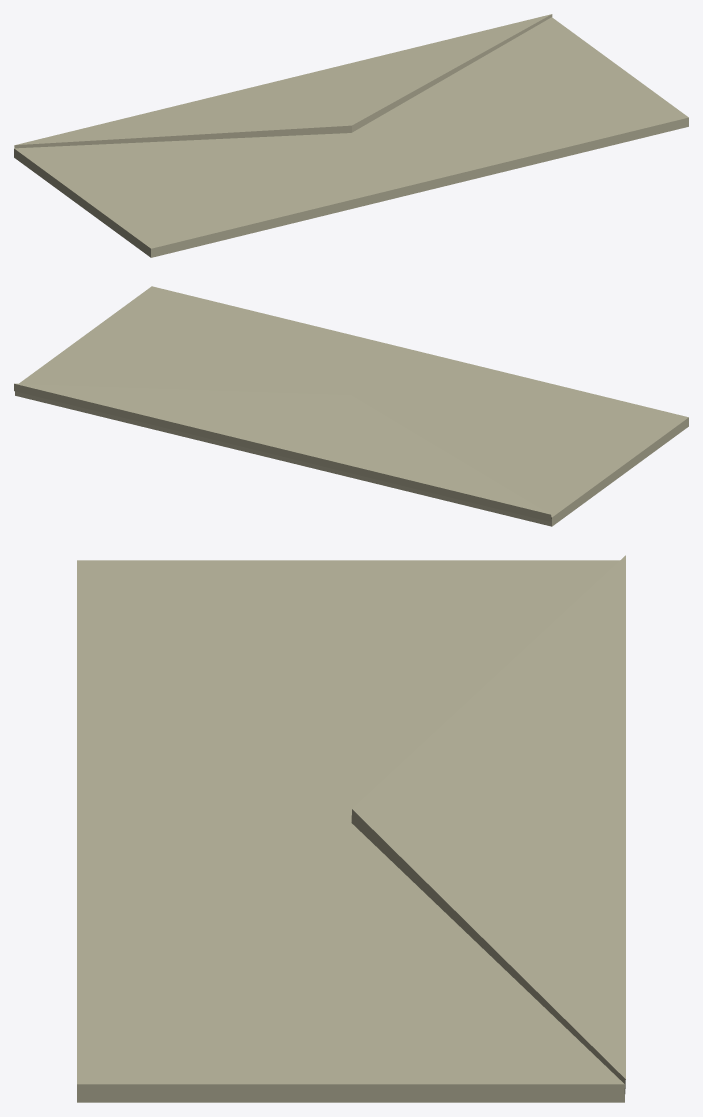
The model's file is Envelope.fbx.
3 renders of one model, top to bottom at view 1: azimuth 30°, elevation 25°; view 2: azimuth 150°, elevation 25°; view 3: azimuth 270°, elevation 25°, orthographic. The views are drawn at different scales.
Parts seen in each view (by area): view 1: Cube, Cube.001; view 2: Cube, Cube.001; view 3: Cube, Cube.001.
Part boxes in pixels (x1,y1,x2,y2): Cube: (14,17,688,257); Cube.001: (14,14,552,148); Cube: (15,286,688,526); Cube.001: (14,383,551,521); Cube: (77,560,624,1102); Cube.001: (351,555,625,1093).
Bounding box in the file's own units: 32.51 × 14.36 × 0.9342.
